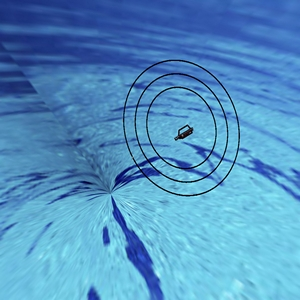circle: (112, 44, 244, 202)
submarine: (172, 117, 198, 149)
